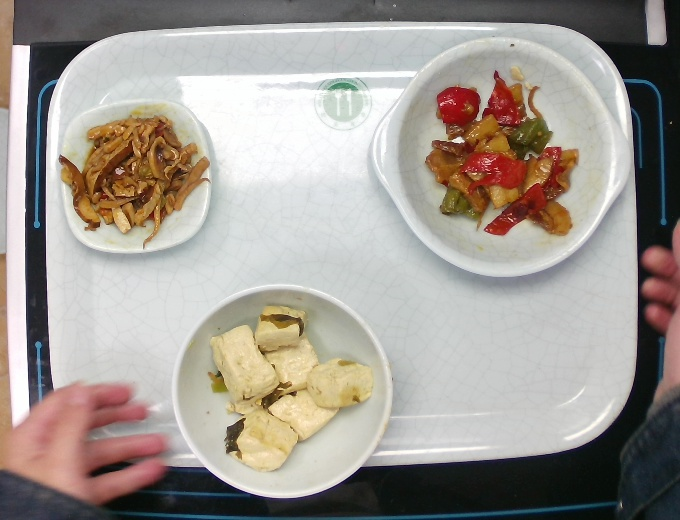JYsf-Fan_Wan: (170, 281, 393, 500)
JYsf-Shuang_Er_Wan: (368, 38, 630, 281)
JYsf-Si_Fang_Die: (61, 98, 216, 256)
